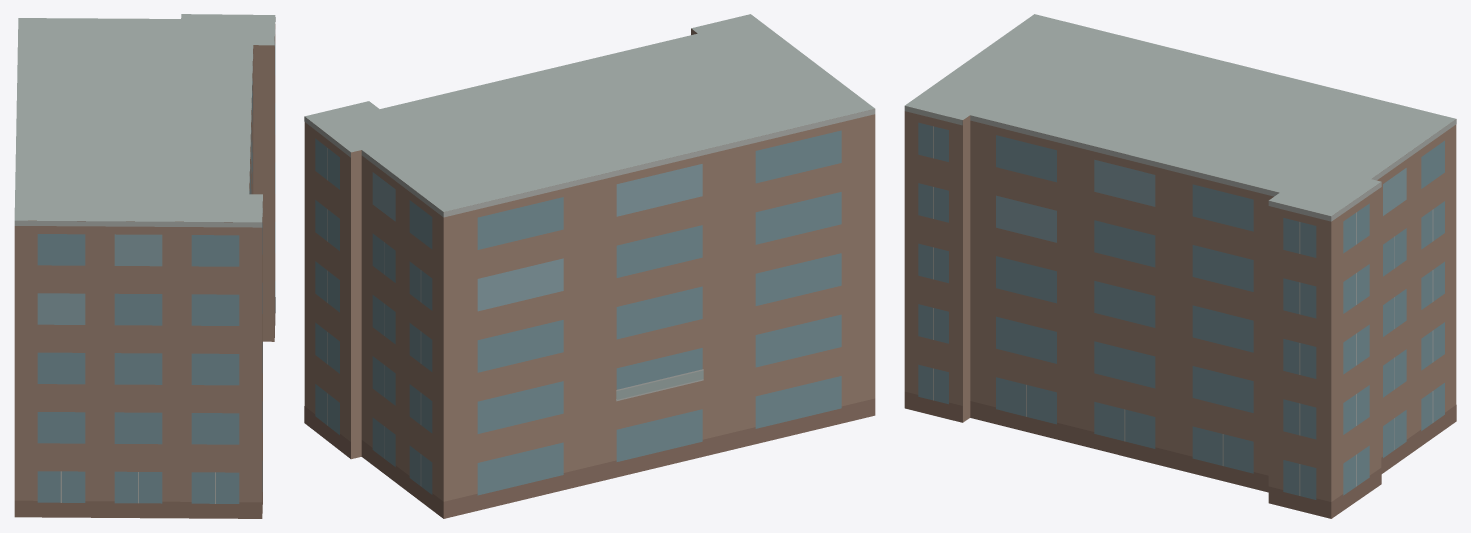
Rendered from survey-upis-32980898.glb.
The picture shows the model from 3 angles, left to right: view 1: azimuth 30°, elevation 25°; view 2: azimuth 150°, elevation 25°; view 3: azimuth 270°, elevation 25°; orthographic projection. The views are drawn at different scales.
Parts seen in each view (by area): view 1: survey-upis-32980898.tmp; view 2: survey-upis-32980898.tmp; view 3: survey-upis-32980898.tmp.
Part boxes in pixels (bbox=[...]): survey-upis-32980898.tmp: bbox=[14, 14, 275, 518]; survey-upis-32980898.tmp: bbox=[304, 14, 875, 518]; survey-upis-32980898.tmp: bbox=[904, 14, 1456, 518].
Size of the model in its own units: 19.87 by 13.85 by 22.9.
